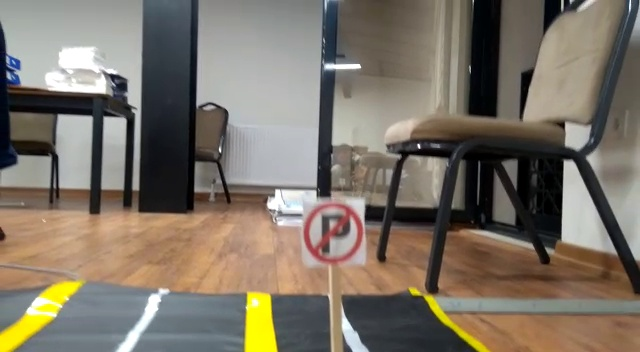park_yapilmaz: (300, 200, 365, 263)
